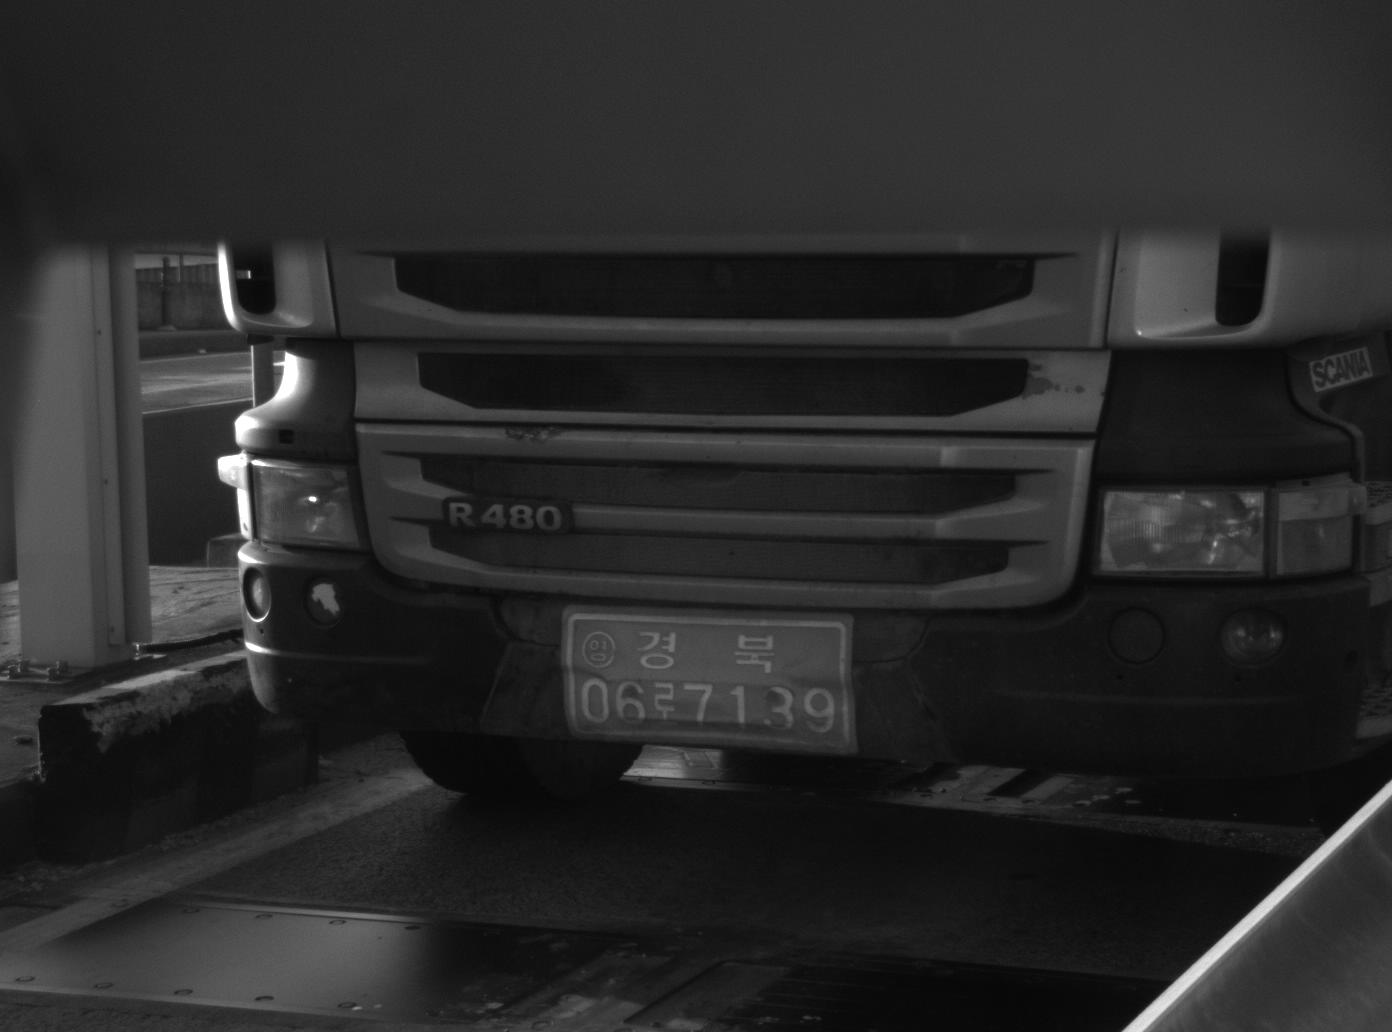car: (216, 235, 1392, 824)
plate: (561, 607, 851, 755)
